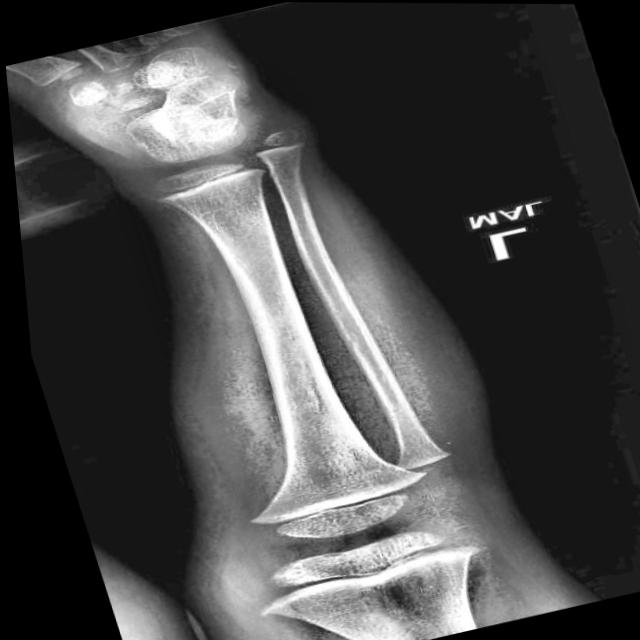fracture: (184, 204, 245, 281)
